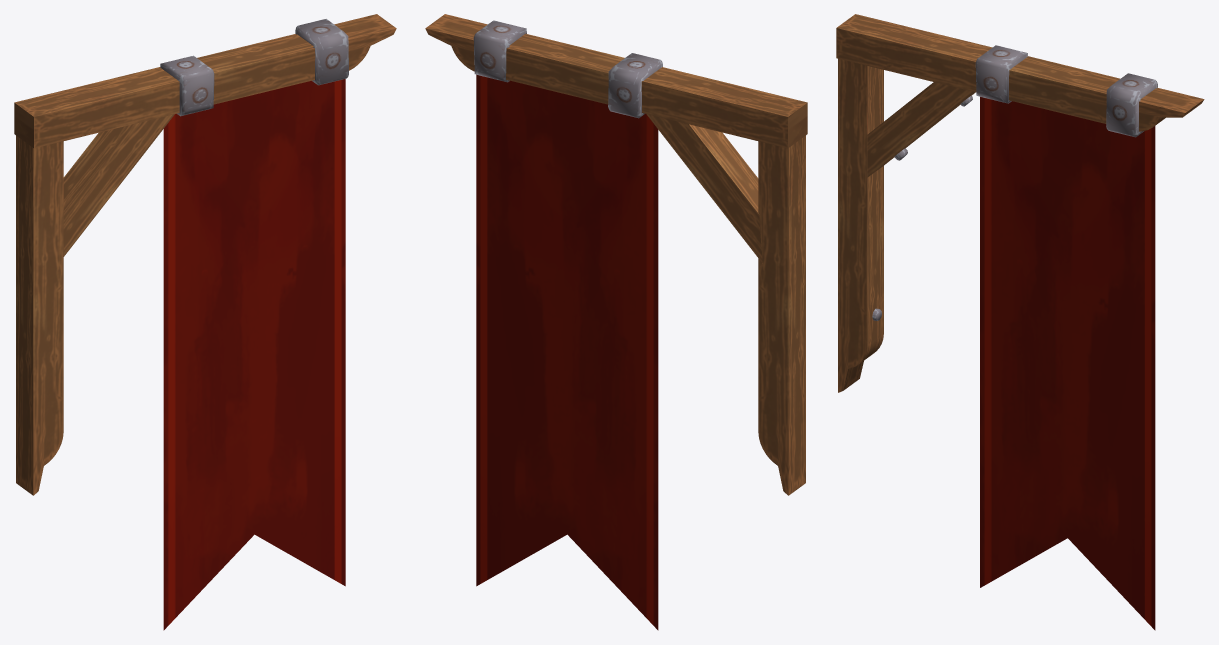
The model's file is Banner_1.gltf.
The picture shows the model from 3 angles, left to right: view 1: azimuth 30°, elevation 25°; view 2: azimuth 150°, elevation 25°; view 3: azimuth 330°, elevation 25°; orthographic projection. The views are drawn at different scales.
Visible parts, largest first — view 1: Banner_1; view 2: Banner_1; view 3: Banner_1.
Part boxes in pixels (x1,y1,x2,y2): Banner_1: (14, 14, 396, 630); Banner_1: (425, 14, 807, 630); Banner_1: (836, 14, 1204, 630).
Bounding box in the file's own units: 1.61 × 2.39 × 0.1906.
3 materials, 3 textured.
